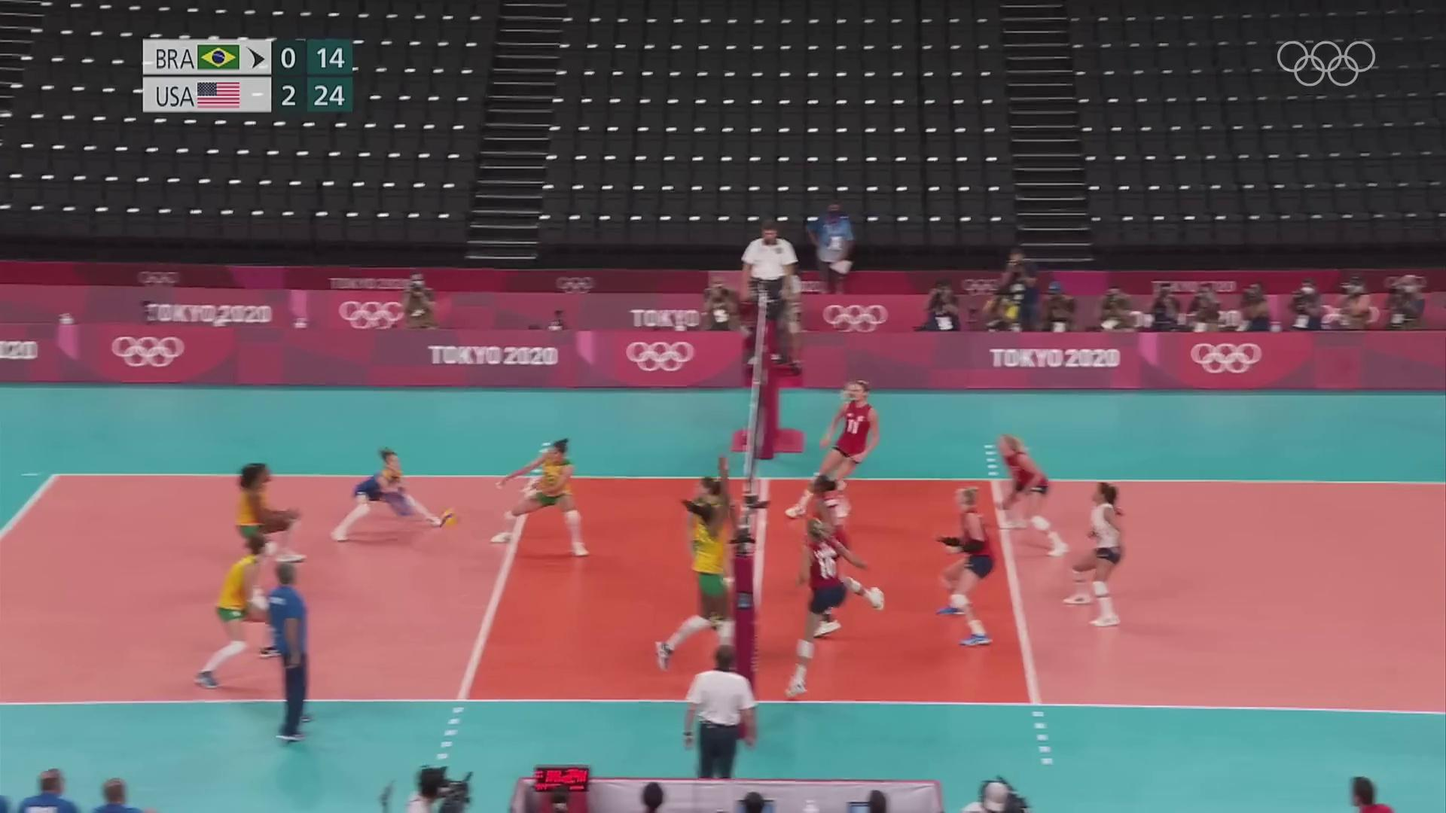player: (791, 521, 887, 695), (652, 503, 749, 671), (194, 535, 291, 686), (786, 379, 881, 522), (491, 435, 592, 557), (229, 463, 309, 603), (333, 449, 447, 540), (935, 486, 998, 648), (1064, 481, 1129, 626), (680, 477, 740, 631), (996, 434, 1072, 555), (806, 475, 852, 642)
refree: (682, 645, 753, 778), (742, 218, 799, 365)
